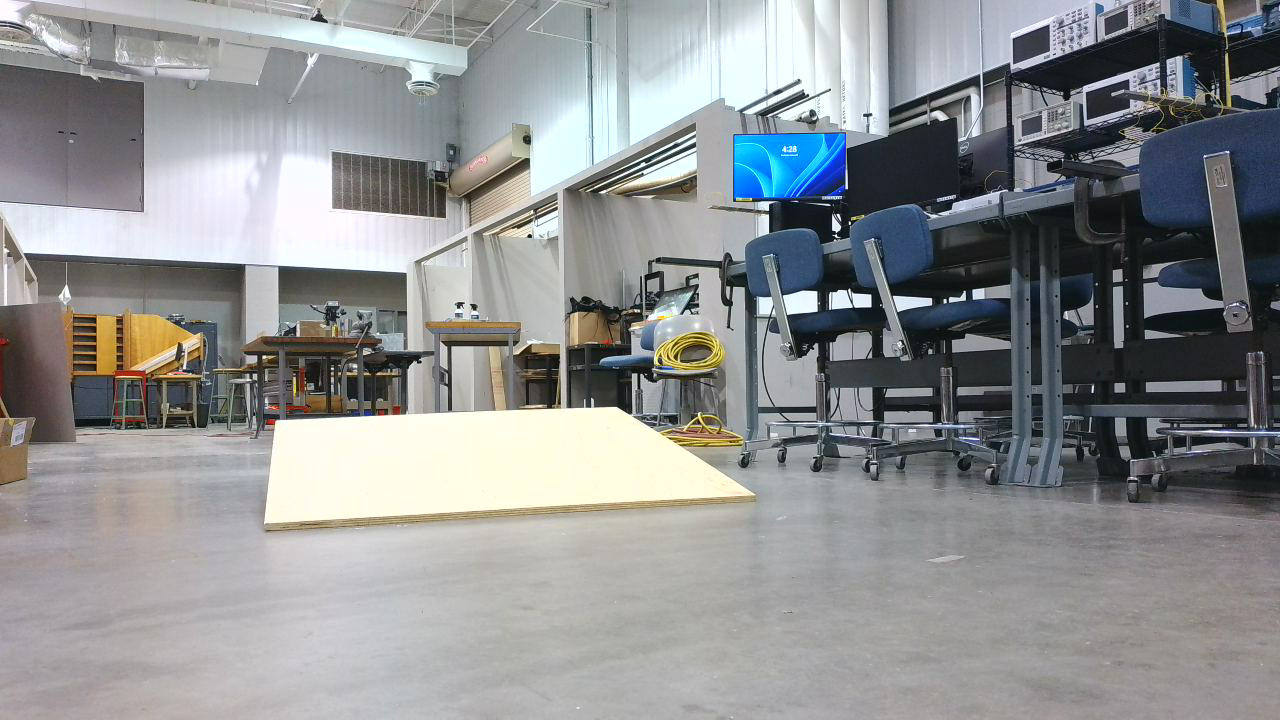ramp: (265, 407, 769, 541)
